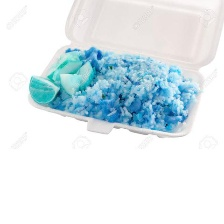foam_box: (21, 0, 223, 142)
